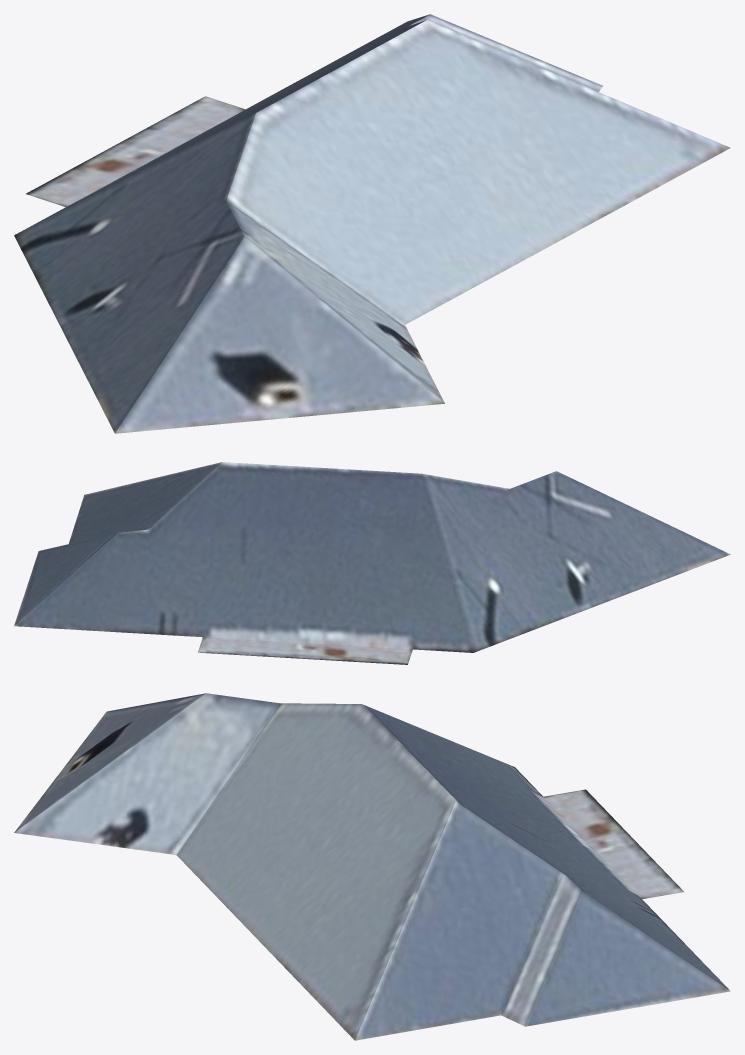
The model's file is CG10_500_040075_0004_roof.obj.
3 renders of one model, top to bottom at view 1: azimuth 30°, elevation 25°; view 2: azimuth 150°, elevation 25°; view 3: azimuth 270°, elevation 25°, orthographic. The views are drawn at different scales.
Visible parts, largest first — view 1: CG10_500_040075_0004_roof; view 2: CG10_500_040075_0004_roof; view 3: CG10_500_040075_0004_roof.
Boxes of the visible parts, x1,y1,x2,y2 form: CG10_500_040075_0004_roof: [14, 14, 730, 433]; CG10_500_040075_0004_roof: [14, 462, 730, 664]; CG10_500_040075_0004_roof: [14, 693, 730, 1040].
Bounding box in the file's own units: 376 × 70 × 346.
1 material, 1 textured.
